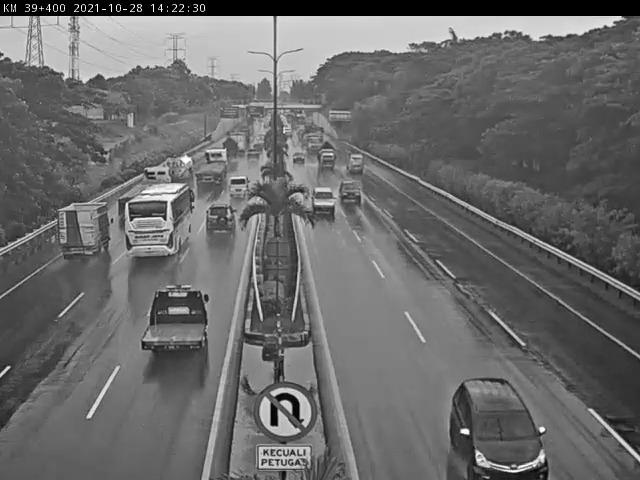big bus: (123, 182, 195, 258)
big truck: (133, 161, 172, 204), (197, 144, 230, 188)
car: (446, 379, 544, 480), (143, 286, 208, 358), (205, 202, 236, 235), (309, 185, 333, 213), (339, 180, 364, 201), (228, 176, 250, 198), (248, 144, 263, 160), (251, 139, 264, 154)
small truck: (51, 199, 114, 260), (166, 152, 196, 178), (317, 141, 338, 174), (217, 137, 238, 162), (347, 155, 365, 175)
